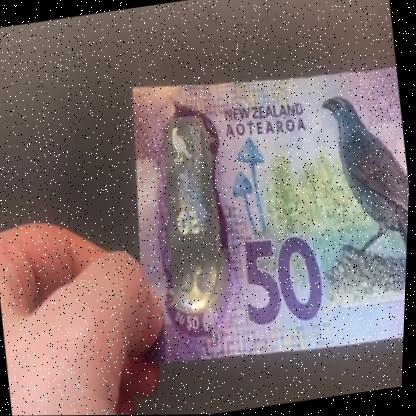50B: (159, 118, 228, 303)
